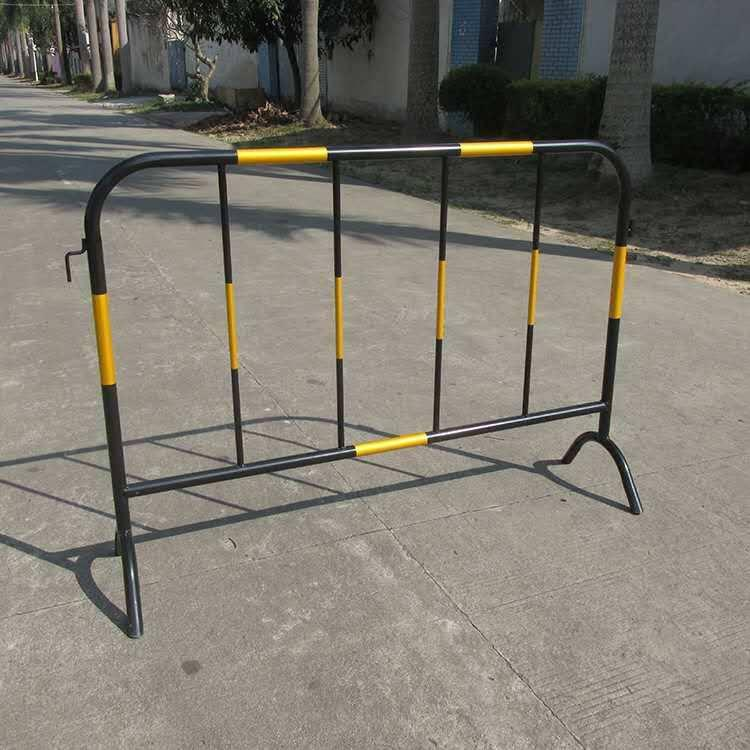sign: (57, 129, 690, 612)
